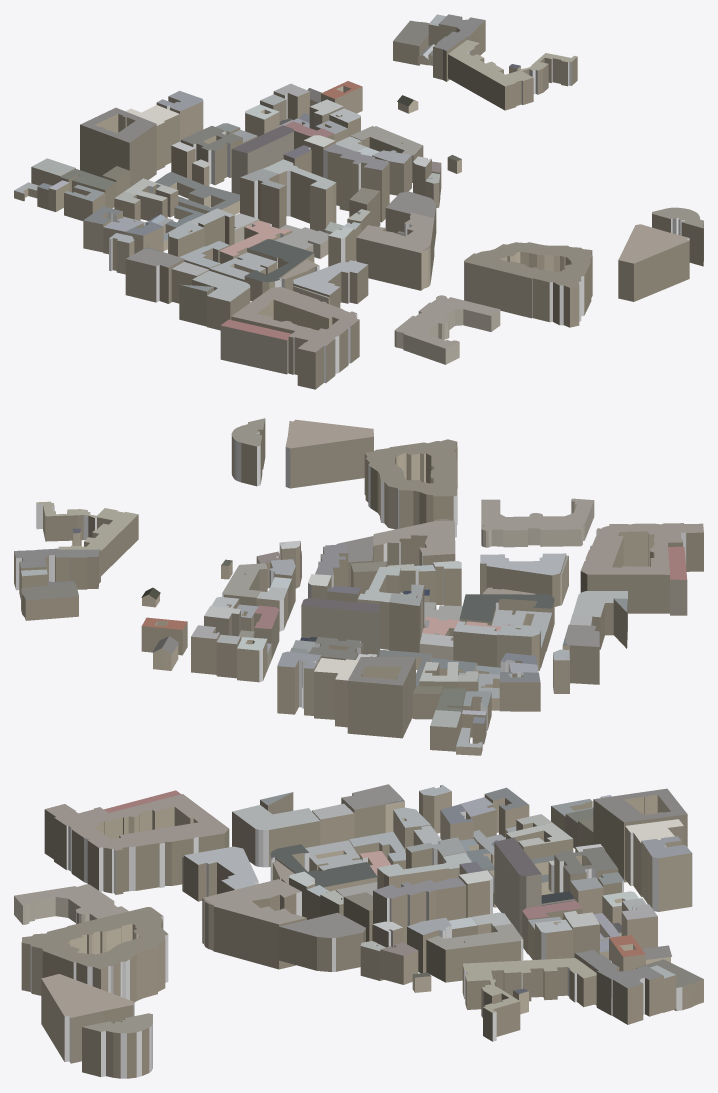
The picture shows the model from 3 angles, top to bottom: view 1: azimuth 30°, elevation 25°; view 2: azimuth 150°, elevation 25°; view 3: azimuth 270°, elevation 25°; orthographic projection. The views are drawn at different scales.
Parts seen in each view (by area): view 1: tuile; view 2: tuile; view 3: tuile.
Part boxes in pixels (x1=…): tuile: x1=14, y1=14, x2=703, y2=389; tuile: x1=14, y1=418, x2=703, y2=755; tuile: x1=14, y1=784, x2=703, y2=1078.
Bounding box in the file's own units: 288 × 49.89 × 292.
